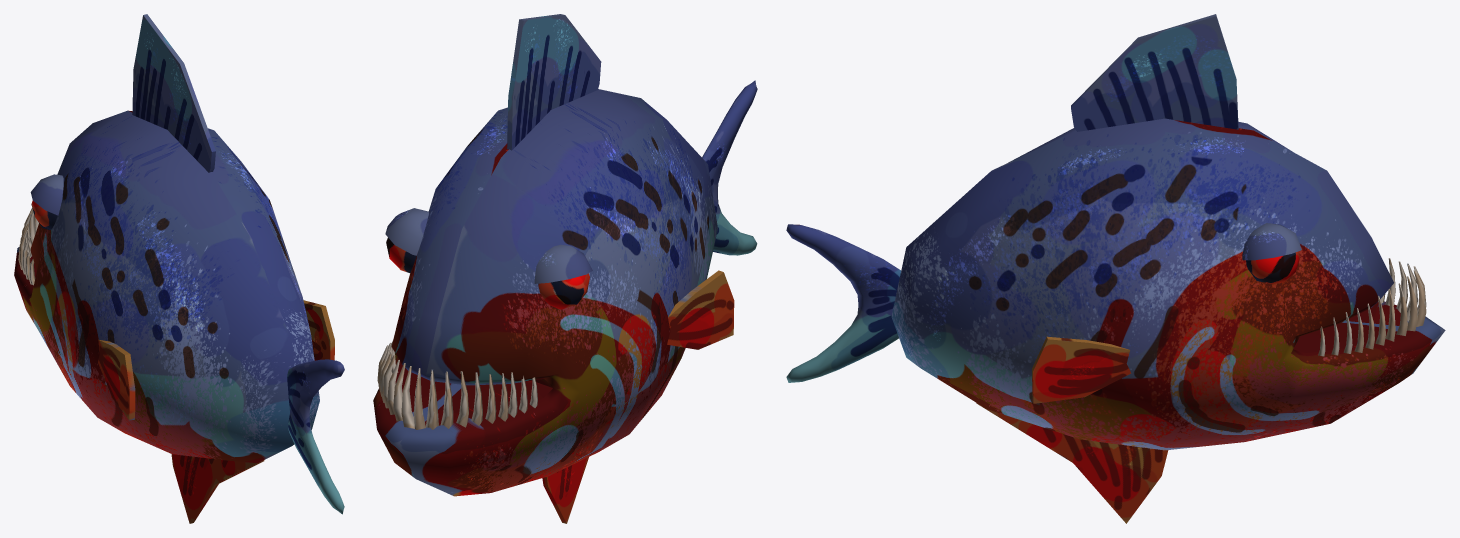
The model's file is Piranha.fbx.
3 renders of one model, left to right at view 1: azimuth 30°, elevation 25°; view 2: azimuth 150°, elevation 25°; view 3: azimuth 270°, elevation 25°, orthographic. The views are drawn at different scales.
Parts seen in each view (by area): view 1: Pranha_BodyShape; view 2: Pranha_BodyShape; view 3: Pranha_BodyShape.
Boxes of the visible parts, box(x1,y1,x2,y2) form: Pranha_BodyShape: box(14, 14, 344, 523); Pranha_BodyShape: box(373, 14, 757, 523); Pranha_BodyShape: box(786, 14, 1445, 523).
Bounding box in the file's own units: 49.65 × 111 × 131.
1 material, 1 textured.
